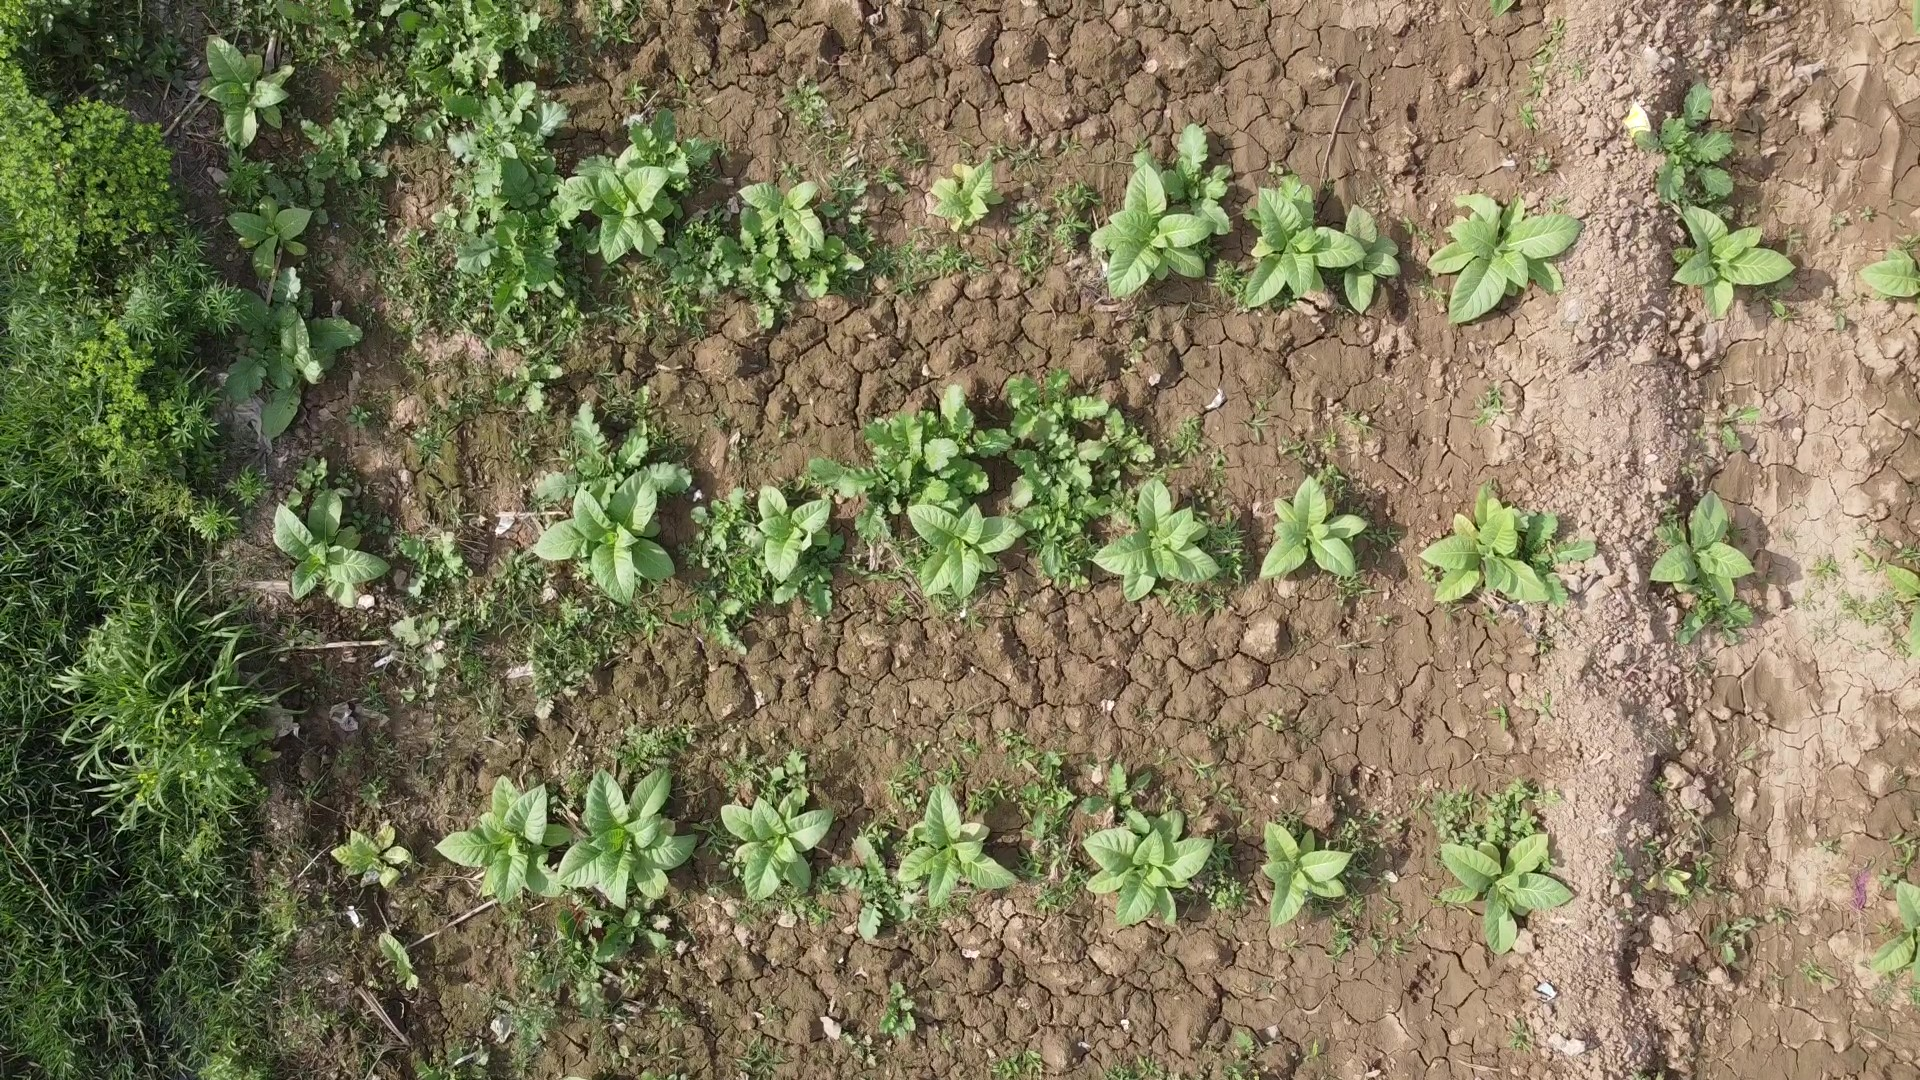weed: (1096, 166, 1225, 299), (581, 773, 697, 910), (1651, 499, 1778, 611), (902, 799, 1016, 919), (1259, 489, 1390, 588), (1466, 187, 1571, 308), (551, 471, 663, 583), (461, 783, 564, 902), (728, 486, 872, 568), (1248, 174, 1335, 308), (1102, 816, 1220, 913), (908, 508, 1027, 596), (1451, 829, 1554, 926), (1429, 502, 1548, 585), (1683, 204, 1793, 291), (573, 168, 684, 245), (947, 174, 1050, 245), (1096, 512, 1212, 575), (732, 187, 848, 243), (743, 790, 809, 885), (1270, 839, 1354, 908), (194, 50, 286, 112), (291, 523, 364, 592), (1339, 209, 1393, 299), (1875, 878, 1920, 982), (349, 833, 430, 889), (256, 198, 321, 267), (1890, 549, 1920, 646), (1868, 243, 1920, 297)
